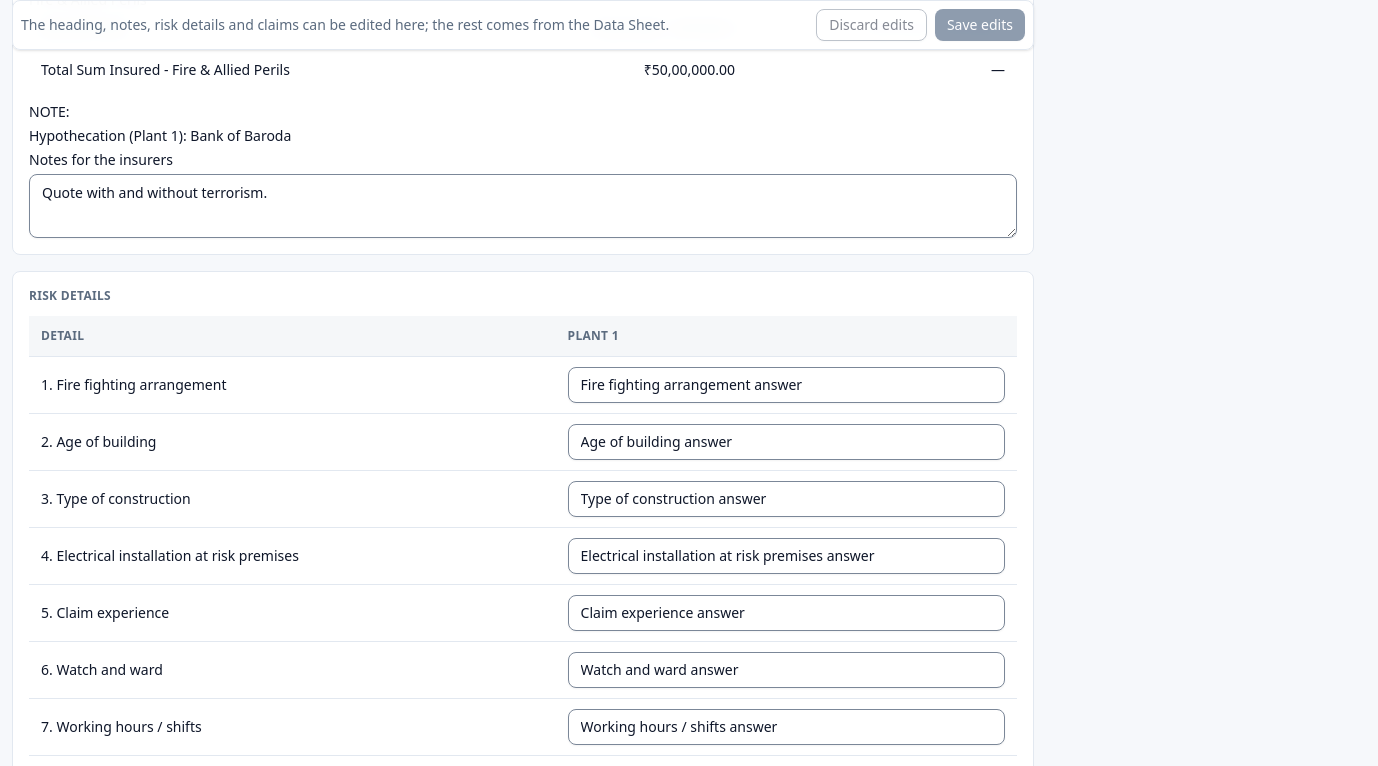
RfqReviewPanel › R-1, R-2: previews the RFQ from the case and saves the edits made in place
(page scrolled)
expect the text "Hypothecation (Plant 1): Bank of Baroda" is shown: met, box 29,126 -> 291,145
expect the text box labelled "Notes for the insurers" holds "Quote with and without terrorism.": met, box 29,174 -> 1017,238
Clear the field named "Fire fighting arrangement, Plant 1" at (786, 384), box 568,366 -> 1005,402
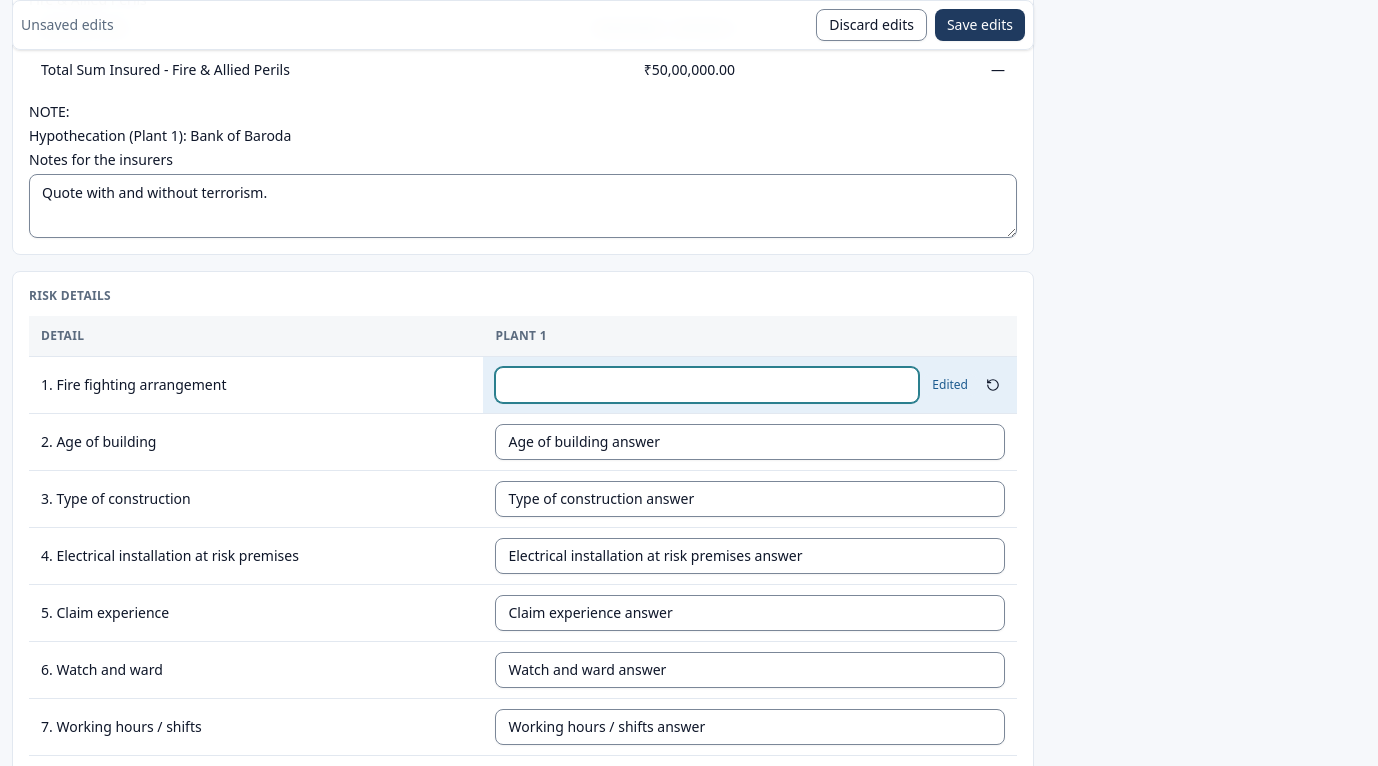
Type "Hydrants and sprinklers" into the field named "Fire fighting arrangement, Plant 1" at (707, 384), box 495,366 -> 919,402
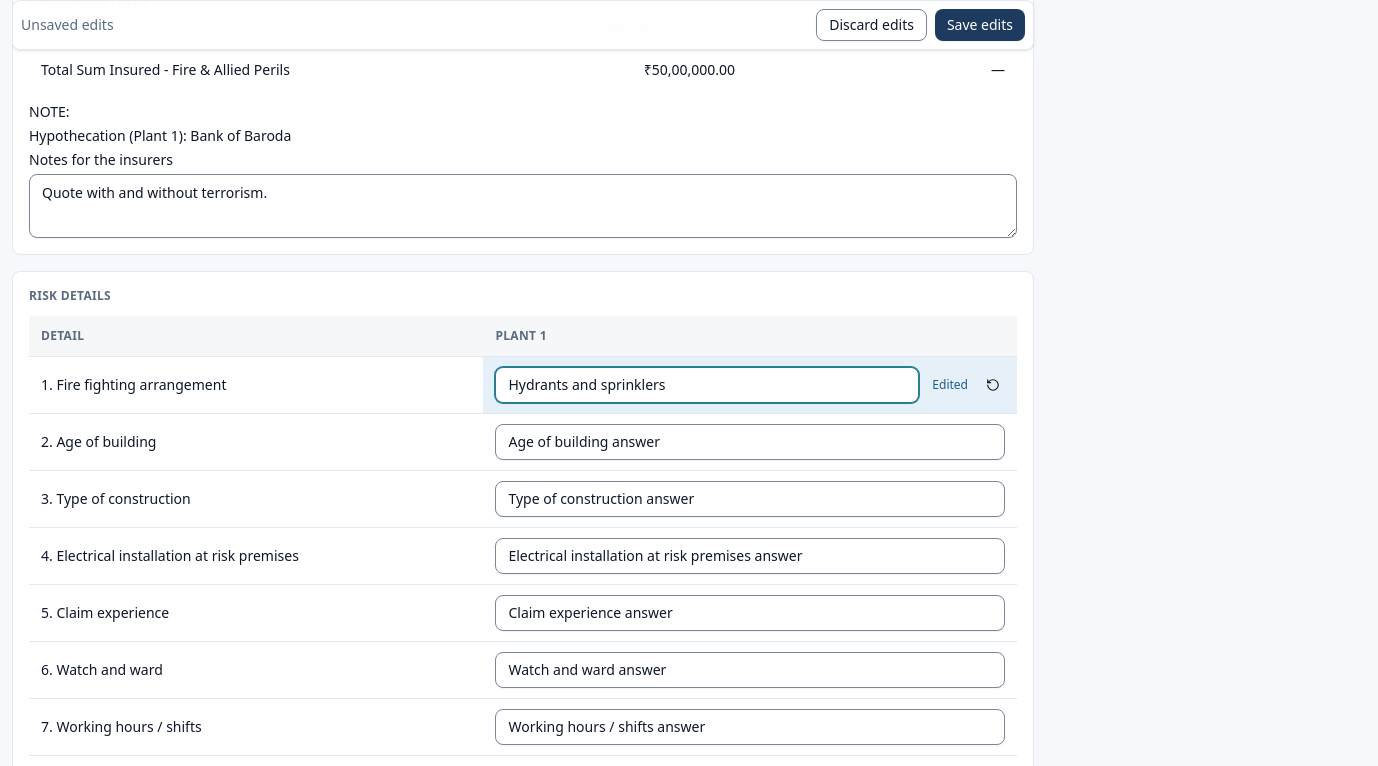
expect the button named "Use the Data Sheet’s Fire fighting arrangement, Plant 1" is shown: met, box 981,372 -> 1005,396
Click the button "Save edits" at (980, 25), box 935,9 -> 1025,41
(page scrolled)
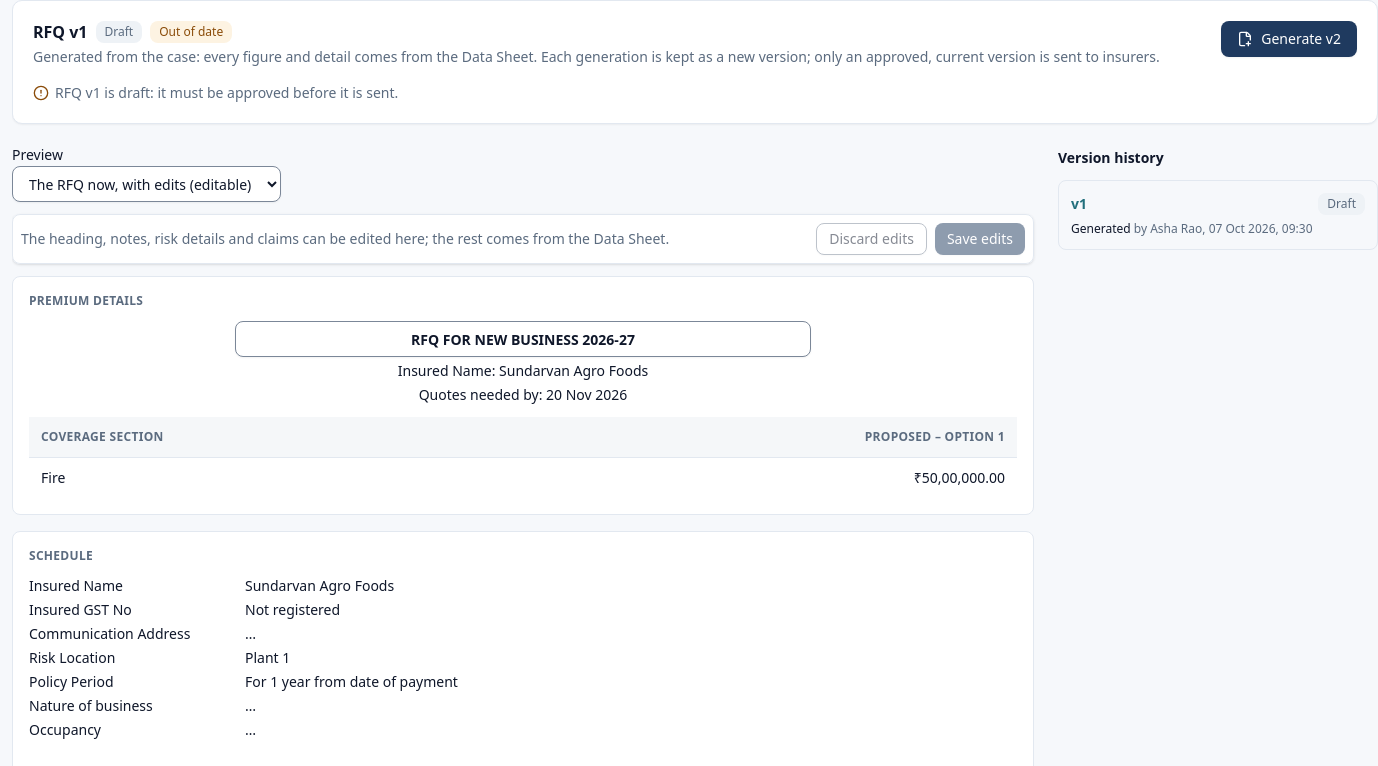
expect the text "Out of date" is shown: met, box 150,21 -> 232,43
